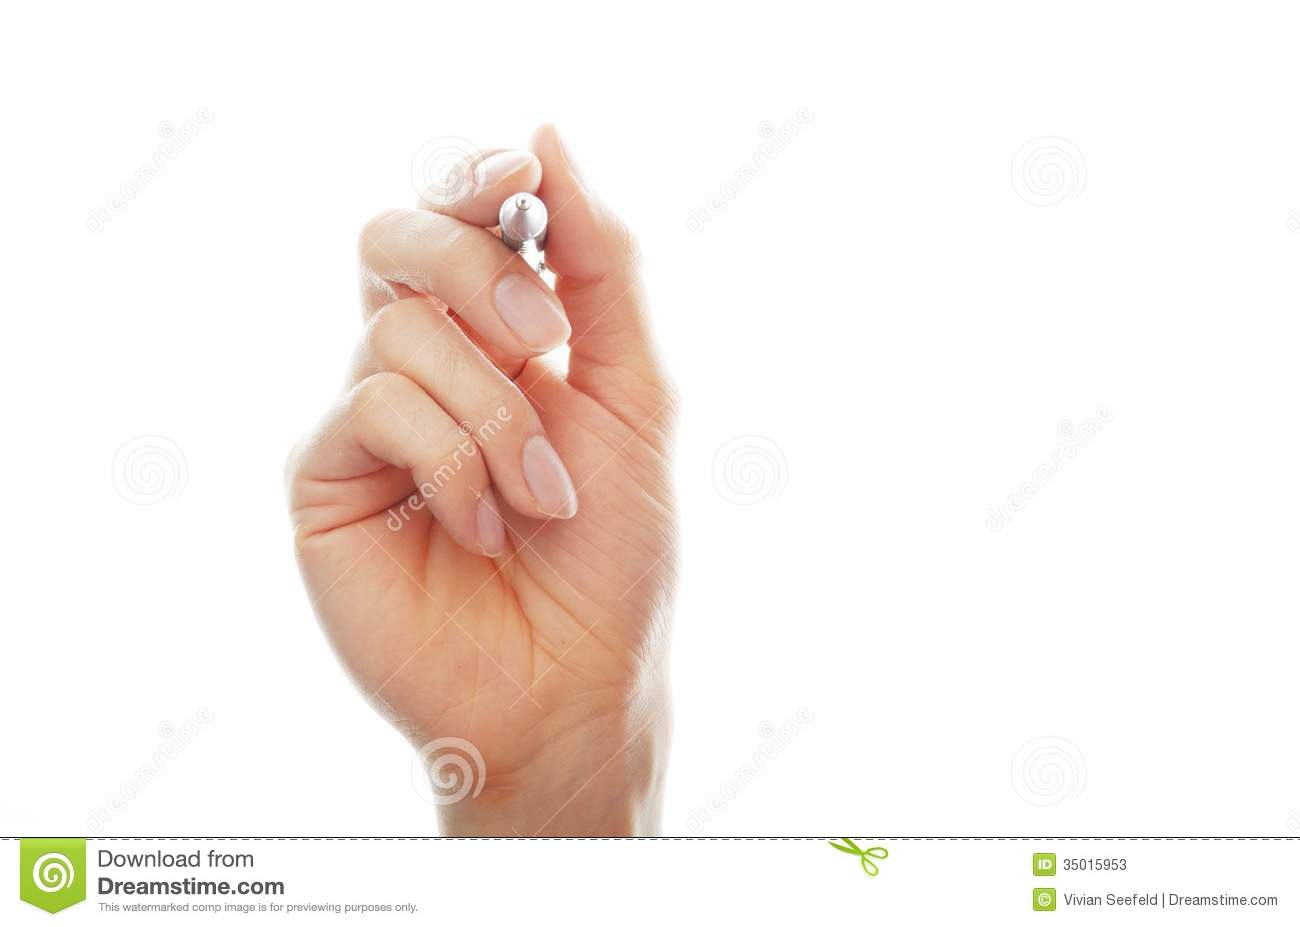pointer: (297, 150, 691, 688)
